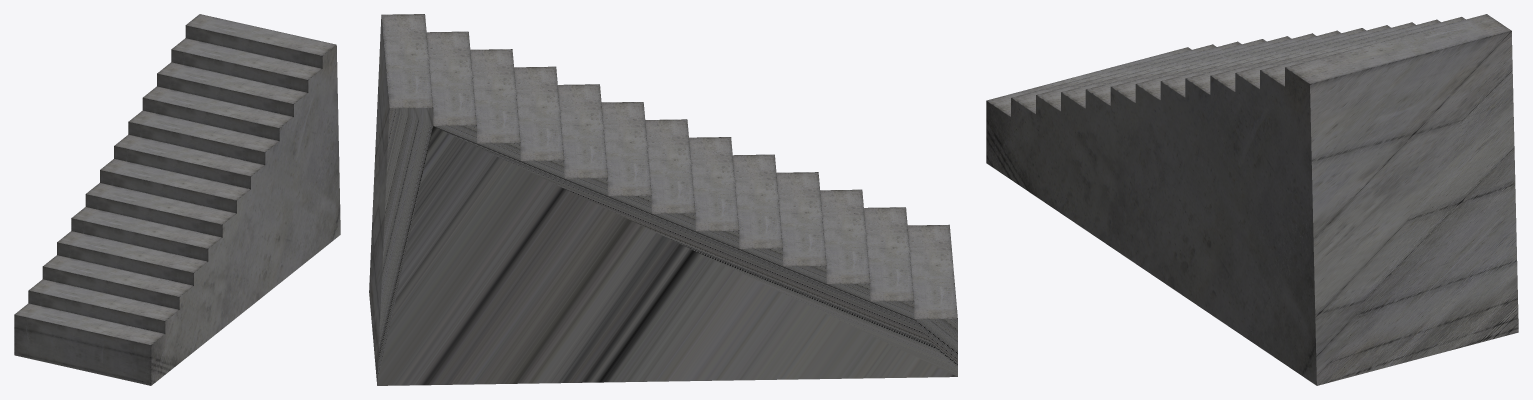
3 views of the same model, side by side, from view 1: azimuth 30°, elevation 25°; view 2: azimuth 150°, elevation 25°; view 3: azimuth 270°, elevation 25° (orthographic). The views are drawn at different scales.
Parts seen in each view (by area): view 1: Cube.045; view 2: Cube.045; view 3: Cube.045.
Part boxes in pixels (box(x1,y1,x2,y2)): Cube.045: box(14, 14, 340, 385); Cube.045: box(369, 14, 957, 385); Cube.045: box(986, 14, 1518, 385).
Size of the model in its own units: 787 by 394 by 641.
